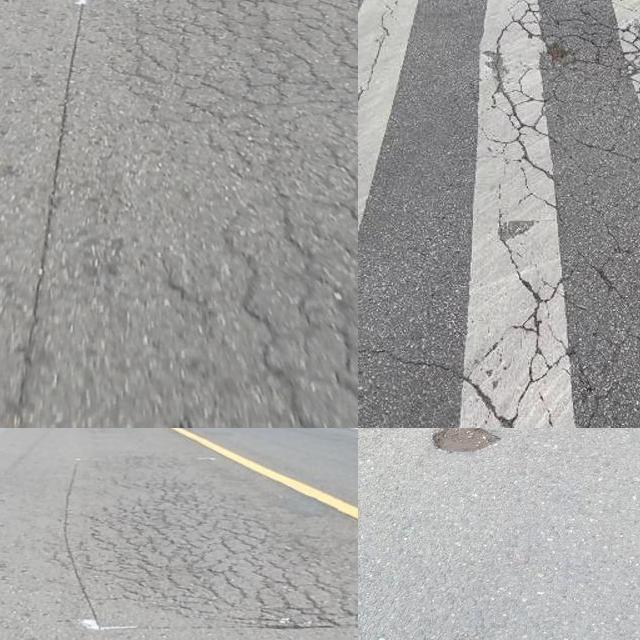Lubang: (437, 428, 501, 456)
Retak Buaya: (100, 0, 358, 428), (73, 447, 358, 628), (478, 4, 640, 225)
